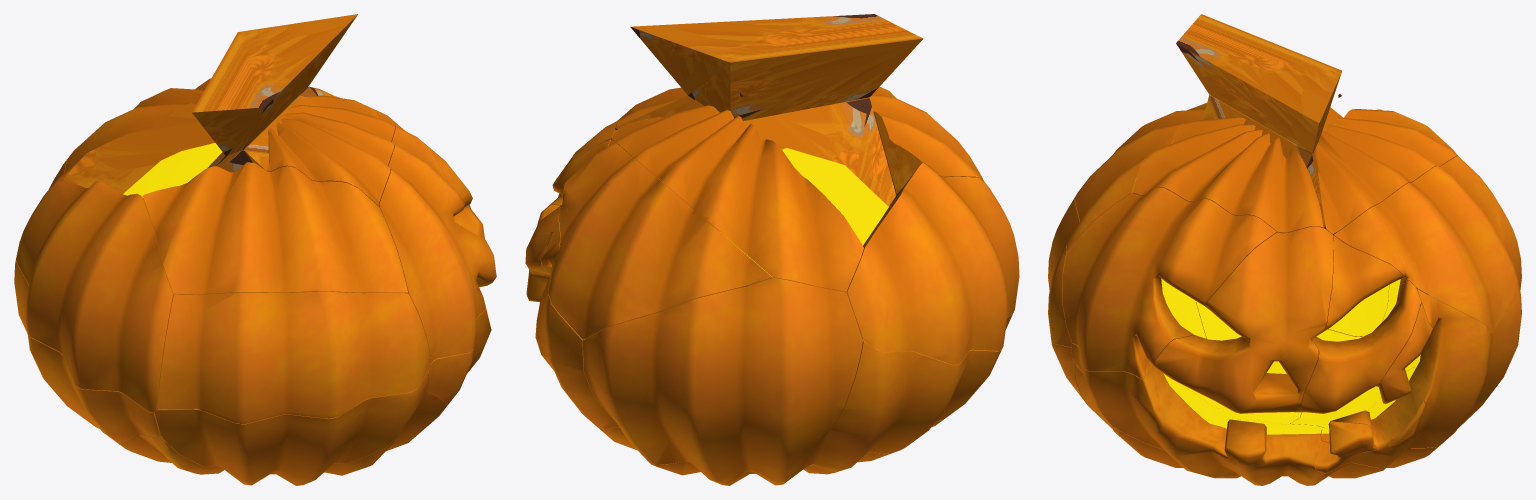
File: pumpkin_pieces_auto_rigidbody.glb
3 renders of one model, left to right at view 1: azimuth 30°, elevation 25°; view 2: azimuth 150°, elevation 25°; view 3: azimuth 270°, elevation 25°, orthographic. The views are drawn at different scales.
Visible parts, largest first — view 1: pumpkin_cell.006-rigid, pumpkin_cell.018-rigid, pumpkin_cell.009-rigid, pumpkin_cell.017-rigid, pumpkin_cell.008-rigid, pumpkin_cell-rigid, pumpkin_cell.004-rigid, pumpkin_cell.012-rigid, pumpkin_cell.015-rigid, pumpkin_cell.016-rigid, pumpkin_cell.001-rigid, pumpkin_cell.020-rigid (+3 smaller); view 2: pumpkin_cell.013-rigid, pumpkin_cell.009-rigid, pumpkin_cell.003-rigid, pumpkin_cell.012-rigid, pumpkin_cell-rigid, pumpkin_cell.015-rigid, pumpkin_cell.007-rigid, pumpkin_cell.018-rigid, pumpkin_cell.027-rigid, pumpkin_cell.016-rigid, pumpkin_cell.005-rigid, pumpkin_cell.019-rigid (+3 smaller); view 3: pumpkin_cell.017-rigid, pumpkin_cell.021-rigid, pumpkin_cell.003-rigid, pumpkin_cell.001-rigid, pumpkin_cell.004-rigid, pumpkin_cell-rigid, pumpkin_cell.027-rigid, pumpkin_cell.012-rigid, pumpkin_cell.005-rigid, pumpkin_cell.018-rigid, pumpkin_cell.013-rigid, pumpkin_cell.011-rigid (+9 smaller).
Boxes of the visible parts, x1,y1,x2,y2 form: pumpkin_cell.006-rigid: (157, 291, 430, 423); pumpkin_cell.018-rigid: (143, 162, 407, 294); pumpkin_cell.009-rigid: (16, 180, 173, 412); pumpkin_cell.017-rigid: (379, 126, 495, 363); pumpkin_cell.008-rigid: (154, 371, 428, 485); pumpkin_cell-rigid: (192, 14, 357, 156); pumpkin_cell.004-rigid: (267, 95, 395, 205); pumpkin_cell.012-rigid: (53, 78, 326, 193); pumpkin_cell.015-rigid: (14, 258, 160, 444); pumpkin_cell.016-rigid: (123, 143, 222, 197); pumpkin_cell.001-rigid: (426, 309, 491, 405); pumpkin_cell.020-rigid: (326, 387, 447, 475); pumpkin_cell.013-rigid: (582, 277, 862, 483); pumpkin_cell.009-rigid: (845, 162, 1019, 364); pumpkin_cell.003-rigid: (548, 139, 772, 339); pumpkin_cell.012-rigid: (612, 105, 863, 291); pumpkin_cell-rigid: (630, 14, 923, 121); pumpkin_cell.015-rigid: (795, 314, 1012, 474); pumpkin_cell.007-rigid: (615, 95, 896, 206); pumpkin_cell.018-rigid: (802, 86, 984, 196); pumpkin_cell.027-rigid: (536, 219, 618, 428); pumpkin_cell.016-rigid: (782, 148, 887, 244); pumpkin_cell.005-rigid: (530, 139, 610, 241); pumpkin_cell.019-rigid: (525, 232, 551, 302); pumpkin_cell.017-rigid: (1062, 187, 1276, 378); pumpkin_cell.021-rigid: (1153, 226, 1333, 413); pumpkin_cell.003-rigid: (1333, 156, 1517, 332); pumpkin_cell.001-rigid: (1071, 343, 1332, 485); pumpkin_cell.004-rigid: (1132, 117, 1323, 233); pumpkin_cell-rigid: (1176, 14, 1341, 153); pumpkin_cell.027-rigid: (1321, 283, 1492, 470); pumpkin_cell.012-rigid: (1314, 109, 1457, 234); pumpkin_cell.005-rigid: (1294, 235, 1421, 413); pumpkin_cell.018-rigid: (1066, 103, 1206, 251); pumpkin_cell.013-rigid: (1382, 206, 1521, 428); pumpkin_cell.011-rigid: (1290, 386, 1441, 485).
Size of the model in its own units: 1.78 by 1.6 by 1.78.
Materials: 2 (1 with a texture image).
